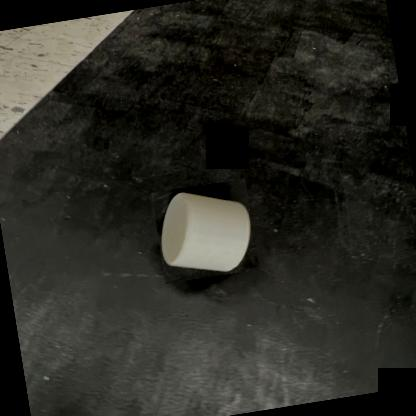white cylinder: (151, 178, 259, 283)
